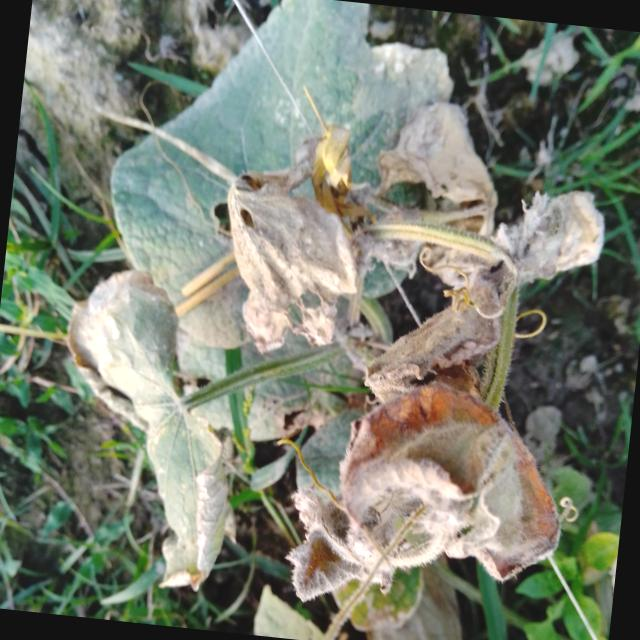cucumber_bacterial: (89, 0, 514, 379), (31, 276, 266, 608), (262, 394, 576, 629), (209, 160, 369, 358), (456, 165, 610, 307)
